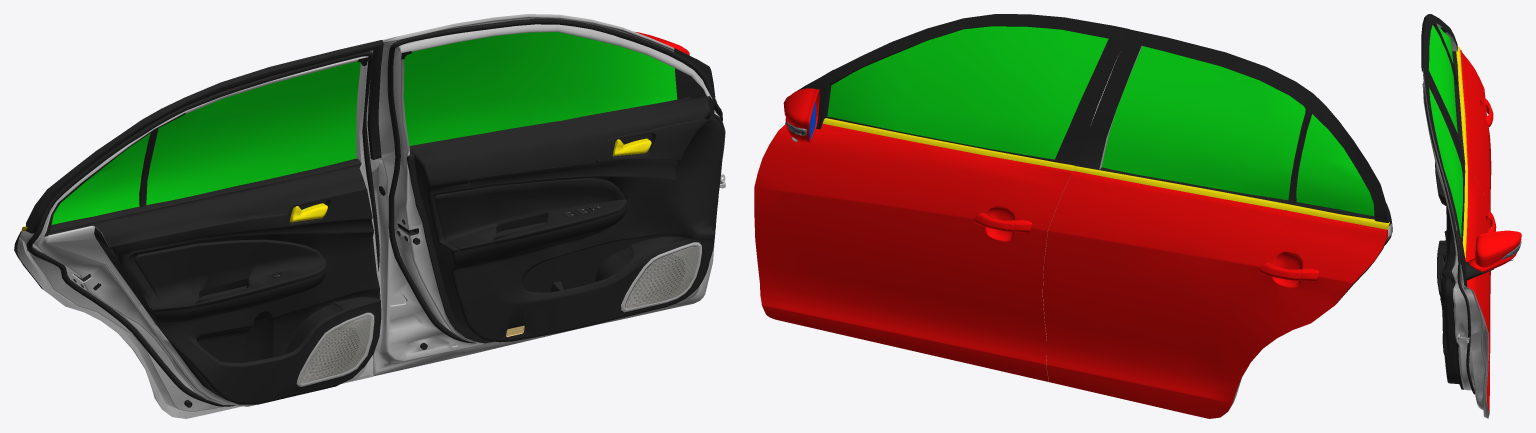
File: E5_左车门.FBX
The picture shows the model from 3 angles, left to right: view 1: azimuth 30°, elevation 25°; view 2: azimuth 150°, elevation 25°; view 3: azimuth 270°, elevation 25°; orthographic projection. The views are drawn at different scales.
Parts seen in each view (by area): view 1: ZJCM, HCM02, CM_CC02, CM_CC03, ZJCMTT02, HCM02TT, HSJ_SG_02; view 2: ZJCM, HCM02, CM_CC02, CM_CC03, HSJ_SG, HSJ_SG_02; view 3: ZJCM, HCM02, CM_CC03, CM_CC02, HSJ_SG, HSJ_SG_02, HSJ_XG.
Part boxes in pixels (x1=…): ZJCM: x1=372, y1=14, x2=725, y2=375; HCM02: x1=14, y1=40, x2=383, y2=418; CM_CC02: x1=51, y1=61, x2=360, y2=224; CM_CC03: x1=403, y1=32, x2=677, y2=145; ZJCMTT02: x1=626, y1=246, x2=698, y2=308; HCM02TT: x1=300, y1=316, x2=370, y2=383; HSJ_SG_02: x1=674, y1=48, x2=715, y2=99; ZJCM: x1=754, y1=14, x2=1129, y2=381; HCM02: x1=1042, y1=29, x2=1392, y2=418; CM_CC02: x1=1102, y1=46, x2=1374, y2=216; CM_CC03: x1=827, y1=26, x2=1108, y2=159; HSJ_SG: x1=783, y1=88, x2=819, y2=135; HSJ_SG_02: x1=785, y1=70, x2=832, y2=129; ZJCM: x1=1422, y1=68, x2=1496, y2=418; HCM02: x1=1421, y1=14, x2=1493, y2=240; CM_CC03: x1=1429, y1=87, x2=1462, y2=237; CM_CC02: x1=1428, y1=25, x2=1457, y2=133; HSJ_SG: x1=1475, y1=230, x2=1521, y2=267; HSJ_SG_02: x1=1457, y1=229, x2=1493, y2=286; HSJ_XG: x1=1469, y1=252, x2=1517, y2=272.
Size of the model in its own units: 229 by 119 by 44.96.
